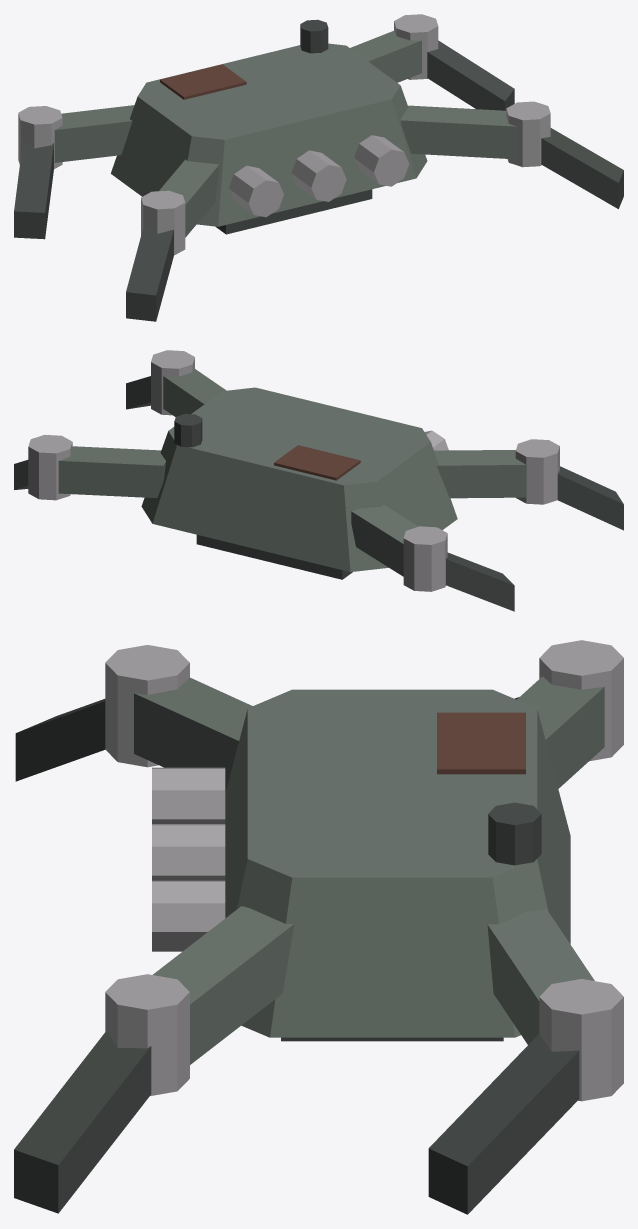
File: mini_warwalker_remains.obj
3 renders of one model, top to bottom at view 1: azimuth 30°, elevation 25°; view 2: azimuth 150°, elevation 25°; view 3: azimuth 270°, elevation 25°, orthographic. The views are drawn at different scales.
Parts seen in each view (by area): view 1: mini_warwalker_remains_1, mini_warwalker_remains_12, mini_warwalker_remains_9, mini_warwalker_remains_13, mini_warwalker_remains_16, mini_warwalker_remains_7, mini_warwalker_remains_10, mini_warwalker_remains_6, mini_warwalker_remains_15, mini_warwalker_remains_14, mini_warwalker_remains_8, mini_warwalker_remains_3 (+7 smaller); view 2: mini_warwalker_remains_1, mini_warwalker_remains_15, mini_warwalker_remains_6, mini_warwalker_remains_9, mini_warwalker_remains_11, mini_warwalker_remains_7, mini_warwalker_remains_8, mini_warwalker_remains_10, mini_warwalker_remains_17, mini_warwalker_remains_12, mini_warwalker_remains_18, mini_warwalker_remains_0 (+4 smaller); view 3: mini_warwalker_remains_1, mini_warwalker_remains_16, mini_warwalker_remains_13, mini_warwalker_remains_12, mini_warwalker_remains_6, mini_warwalker_remains_17, mini_warwalker_remains_15, mini_warwalker_remains_14, mini_warwalker_remains_8, mini_warwalker_remains_18, mini_warwalker_remains_9, mini_warwalker_remains_11 (+6 smaller).
Boxes of the visible parts, x1=… form: mini_warwalker_remains_1: x1=111, y1=43, x2=427, y2=226; mini_warwalker_remains_12: x1=401, y1=105, x2=516, y2=159; mini_warwalker_remains_9: x1=54, y1=105, x2=134, y2=162; mini_warwalker_remains_13: x1=541, y1=128, x2=623, y2=208; mini_warwalker_remains_16: x1=427, y1=40, x2=514, y2=110; mini_warwalker_remains_7: x1=126, y1=226, x2=173, y2=321; mini_warwalker_remains_10: x1=14, y1=141, x2=53, y2=239; mini_warwalker_remains_6: x1=159, y1=159, x2=219, y2=237; mini_warwalker_remains_15: x1=350, y1=30, x2=421, y2=82; mini_warwalker_remains_14: x1=506, y1=101, x2=550, y2=167; mini_warwalker_remains_8: x1=141, y1=190, x2=185, y2=255; mini_warwalker_remains_3: x1=228, y1=165, x2=283, y2=217; mini_warwalker_remains_1: x1=141, y1=387, x2=457, y2=571; mini_warwalker_remains_15: x1=58, y1=446, x2=165, y2=498; mini_warwalker_remains_6: x1=434, y1=450, x2=526, y2=498; mini_warwalker_remains_9: x1=351, y1=505, x2=418, y2=576; mini_warwalker_remains_11: x1=403, y1=526, x2=447, y2=591; mini_warwalker_remains_7: x1=557, y1=466, x2=623, y2=530; mini_warwalker_remains_8: x1=515, y1=439, x2=559, y2=504; mini_warwalker_remains_10: x1=446, y1=552, x2=514, y2=611; mini_warwalker_remains_17: x1=28, y1=434, x2=72, y2=500; mini_warwalker_remains_12: x1=163, y1=368, x2=226, y2=416; mini_warwalker_remains_18: x1=274, y1=445, x2=360, y2=480; mini_warwalker_remains_0: x1=196, y1=535, x2=352, y2=579; mini_warwalker_remains_1: x1=225, y1=689, x2=570, y2=1037; mini_warwalker_remains_16: x1=428, y1=1034, x2=579, y2=1214; mini_warwalker_remains_13: x1=14, y1=1030, x2=151, y2=1213; mini_warwalker_remains_12: x1=153, y1=906, x2=294, y2=1064; mini_warwalker_remains_6: x1=134, y1=677, x2=252, y2=792; mini_warwalker_remains_17: x1=539, y1=979, x2=623, y2=1101; mini_warwalker_remains_15: x1=487, y1=909, x2=594, y2=1044; mini_warwalker_remains_14: x1=105, y1=974, x2=189, y2=1095; mini_warwalker_remains_8: x1=105, y1=645, x2=189, y2=767; mini_warwalker_remains_18: x1=437, y1=712, x2=525, y2=774; mini_warwalker_remains_9: x1=517, y1=676, x2=604, y2=788; mini_warwalker_remains_11: x1=539, y1=640, x2=623, y2=761.
Size of the model in its own units: 4.8 by 1.15 by 2.74.
